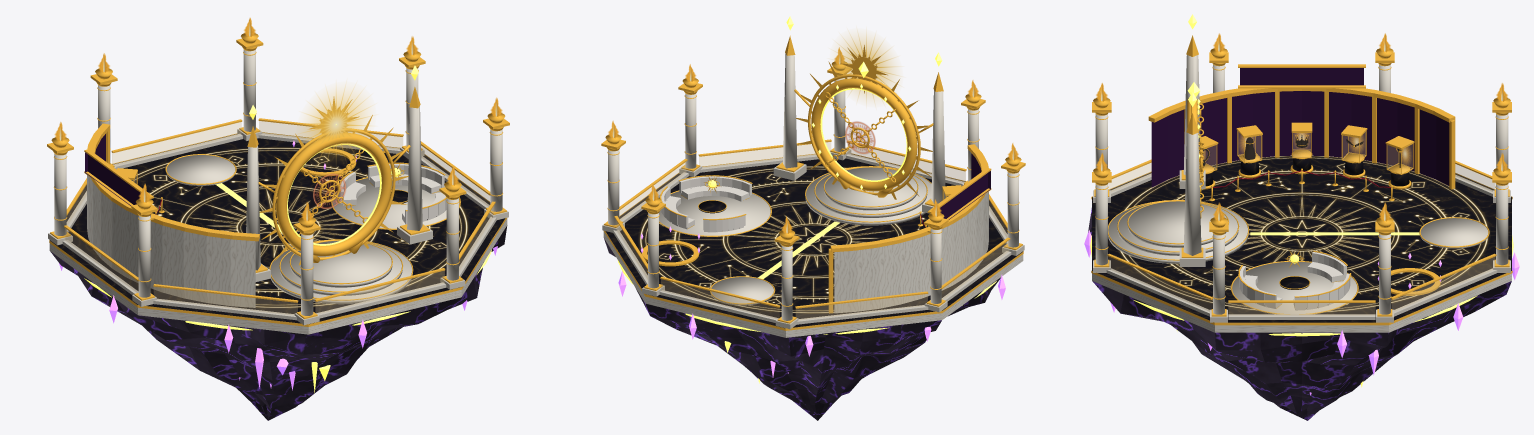
Rendered from god_lounge.glb.
3 views of the same model, side by side, from view 1: azimuth 30°, elevation 25°; view 2: azimuth 150°, elevation 25°; view 3: azimuth 270°, elevation 25° (orthographic). The views are drawn at different scales.
Parts seen in each view (by area): view 1: god_lounge_gl_marble, god_lounge_gl_obsidian, god_lounge_gl_gold, god_lounge_gl_rock, god_lounge_gl_glass, god_lounge_gl_mandala, god_lounge_gl_sun, god_lounge_gl_leather, god_lounge_gl_goldglow, god_lounge_gl_velvet, god_lounge_gl_fire, god_lounge_gl_crystal (+1 smaller); view 2: god_lounge_gl_marble, god_lounge_gl_obsidian, god_lounge_gl_gold, god_lounge_gl_rock, god_lounge_gl_glass, god_lounge_gl_mandala, god_lounge_gl_leather, god_lounge_gl_sun, god_lounge_gl_goldglow, god_lounge_gl_velvet, god_lounge_gl_fire, god_lounge_gl_crystal (+1 smaller); view 3: god_lounge_gl_obsidian, god_lounge_gl_marble, god_lounge_gl_gold, god_lounge_gl_velvet, god_lounge_gl_rock, god_lounge_gl_glass, god_lounge_gl_mandala, god_lounge_gl_leather, god_lounge_gl_goldglow, god_lounge_gl_fire, god_lounge_gl_crystal, god_lounge_gl_backlight (+1 smaller).
Boxes of the visible parts, x1,y1,x2,y2 form: god_lounge_gl_marble: [48, 49, 508, 334]; god_lounge_gl_obsidian: [50, 134, 505, 324]; god_lounge_gl_gold: [47, 33, 509, 326]; god_lounge_gl_rock: [50, 225, 507, 420]; god_lounge_gl_glass: [65, 121, 493, 315]; god_lounge_gl_mandala: [134, 147, 467, 307]; god_lounge_gl_sun: [299, 85, 373, 164]; god_lounge_gl_leather: [339, 164, 446, 224]; god_lounge_gl_goldglow: [84, 143, 491, 330]; god_lounge_gl_velvet: [85, 134, 150, 216]; god_lounge_gl_fire: [54, 17, 502, 221]; god_lounge_gl_crystal: [59, 140, 497, 390]; god_lounge_gl_marble: [602, 53, 1024, 337]; god_lounge_gl_obsidian: [605, 154, 1022, 328]; god_lounge_gl_gold: [601, 35, 1025, 330]; god_lounge_gl_rock: [604, 238, 1000, 420]; god_lounge_gl_glass: [616, 142, 1008, 319]; god_lounge_gl_mandala: [639, 166, 928, 312]; god_lounge_gl_leather: [661, 176, 751, 232]; god_lounge_gl_sun: [832, 31, 899, 103]; god_lounge_gl_goldglow: [617, 88, 996, 334]; god_lounge_gl_velvet: [940, 153, 990, 219]; god_lounge_gl_fire: [608, 47, 1018, 233]; god_lounge_gl_crystal: [618, 226, 1005, 377]; god_lounge_gl_obsidian: [1092, 156, 1511, 322]; god_lounge_gl_marble: [1092, 55, 1511, 332]; god_lounge_gl_gold: [1091, 35, 1512, 325]; god_lounge_gl_velvet: [1151, 68, 1449, 187]; god_lounge_gl_rock: [1088, 208, 1511, 420]; god_lounge_gl_glass: [1108, 132, 1495, 315]; god_lounge_gl_mandala: [1119, 155, 1488, 311]; god_lounge_gl_leather: [1239, 252, 1350, 310]; god_lounge_gl_goldglow: [1090, 232, 1513, 336]; god_lounge_gl_fire: [1096, 33, 1507, 221]; god_lounge_gl_crystal: [1084, 230, 1519, 395]; god_lounge_gl_backlight: [1203, 133, 1410, 165].
Size of what is drawn, in the model's own units: 29.97 by 29.2 by 30.27.
Materials: 18 (8 with a texture image).
